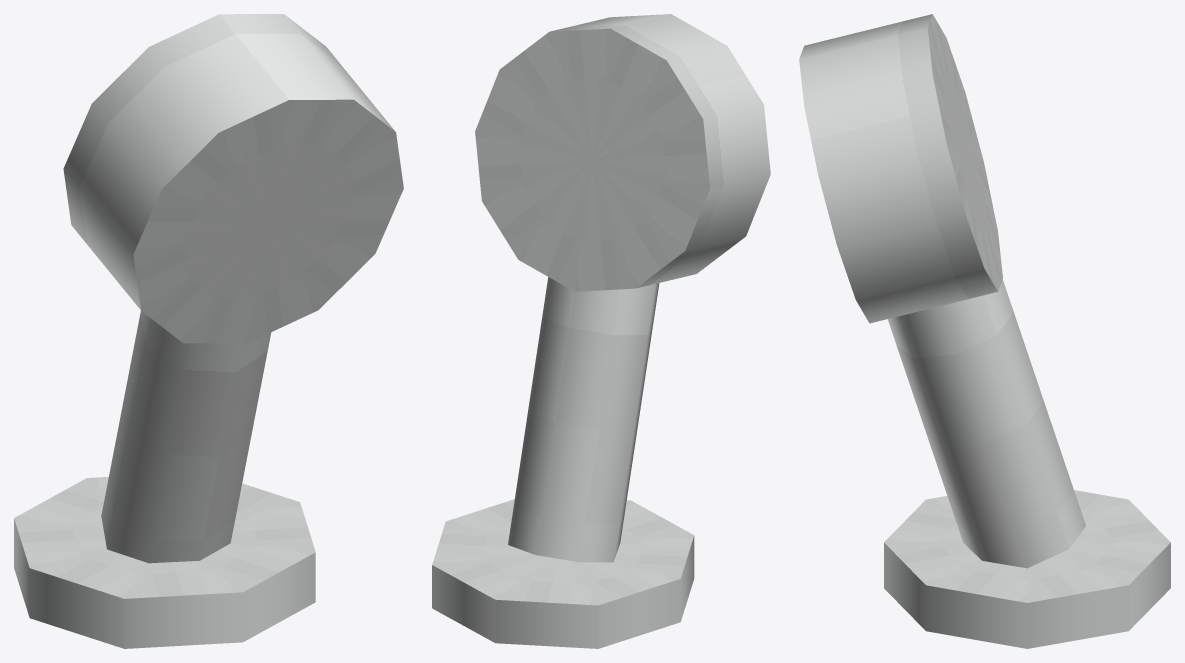
The model's file is trusssignalarm_stub_77.obj.
The picture shows the model from 3 angles, left to right: view 1: azimuth 30°, elevation 25°; view 2: azimuth 150°, elevation 25°; view 3: azimuth 270°, elevation 25°; orthographic projection. The views are drawn at different scales.
Visible parts, largest first — view 1: trusssignalarm_stub_77; view 2: trusssignalarm_stub_77; view 3: trusssignalarm_stub_77.
Boxes of the visible parts, box(x1,y1,x2,y2) form: trusssignalarm_stub_77: box(14, 14, 403, 648); trusssignalarm_stub_77: box(432, 14, 770, 648); trusssignalarm_stub_77: box(799, 14, 1170, 648).
Size of the model in its own units: 0.35 by 0.7551 by 0.4535.
